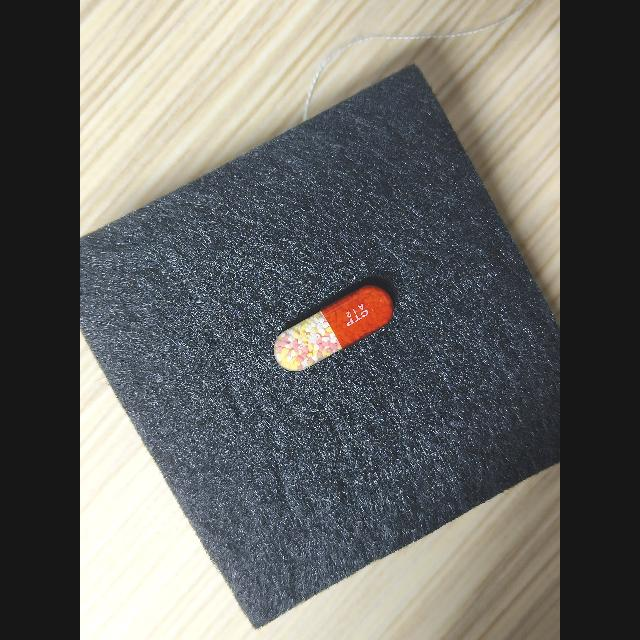Intact Capsule: (274, 285, 393, 371)
